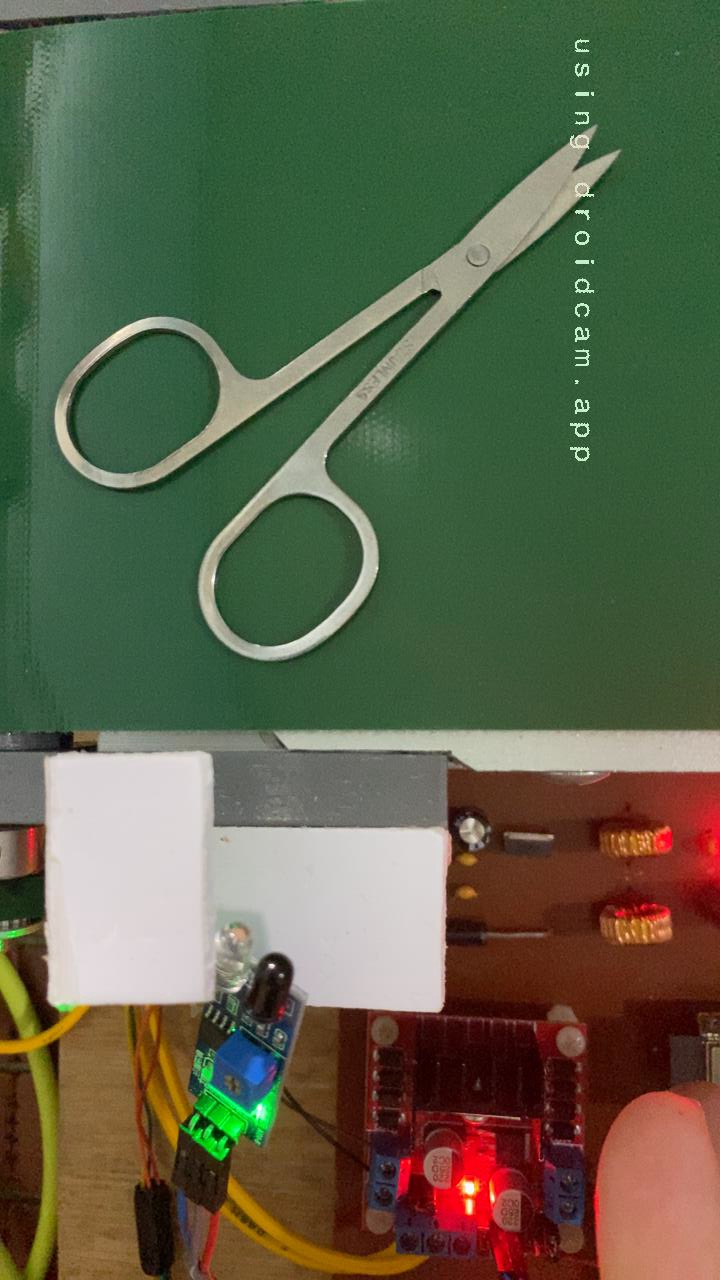scissor: (46, 124, 621, 669)
